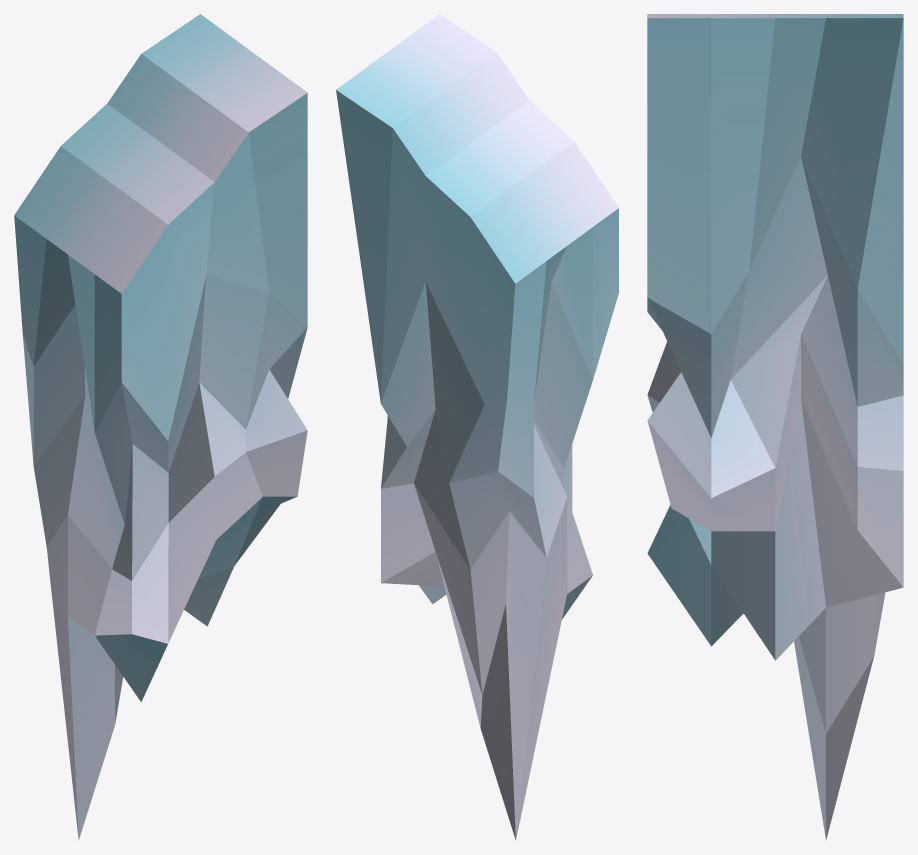
File: ice01_BigIncline.fbx
3 views of the same model, side by side, from view 1: azimuth 30°, elevation 25°; view 2: azimuth 150°, elevation 25°; view 3: azimuth 270°, elevation 25° (orthographic). The views are drawn at different scales.
Parts seen in each view (by area): view 1: Cube_21; view 2: Cube_21; view 3: Cube_21.
Part boxes in pixels (box(x1,y1,x2,y2)): Cube_21: box(14, 14, 307, 840); Cube_21: box(336, 14, 618, 840); Cube_21: box(647, 14, 903, 840).
Bounding box in the file's own units: 200 × 786 × 200.
1 material, 1 textured.
